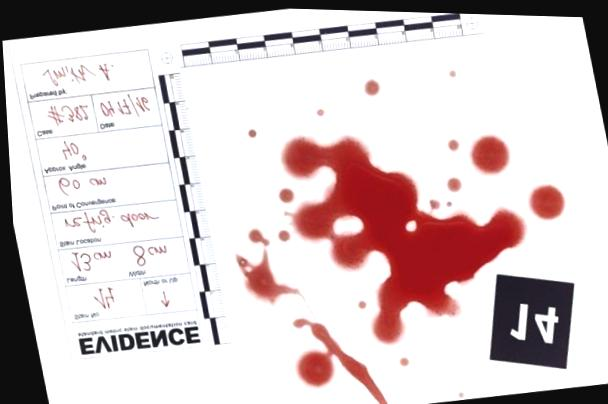Fire: (278, 134, 523, 342), (287, 318, 384, 404), (232, 247, 298, 304), (469, 133, 509, 173), (526, 183, 563, 218), (244, 228, 266, 245), (363, 78, 380, 95), (444, 175, 460, 191), (276, 187, 292, 202), (275, 228, 287, 241)
